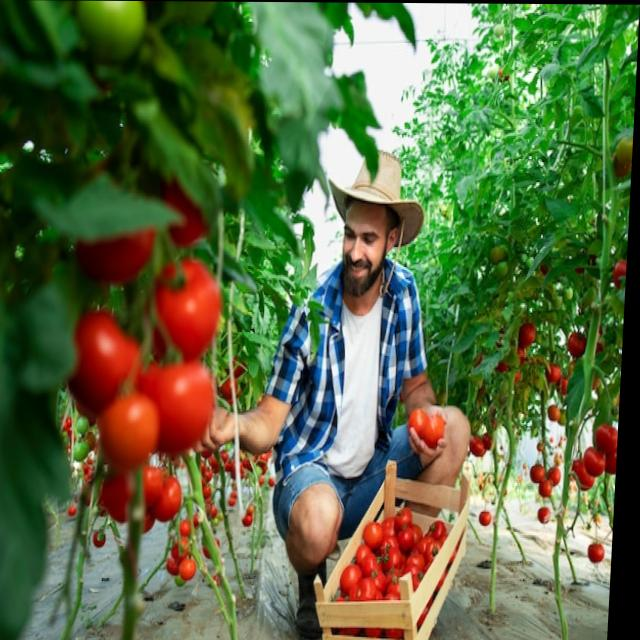kirmizi: (61, 294, 227, 541), (350, 497, 409, 624)
